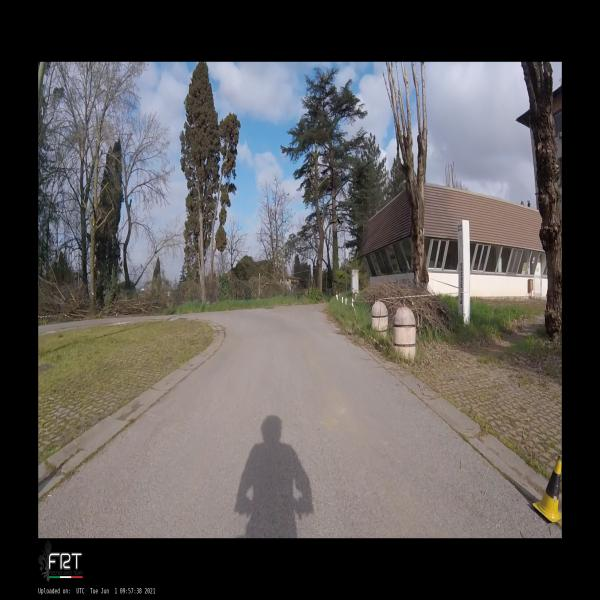yellow_cone: (532, 454, 562, 524)
